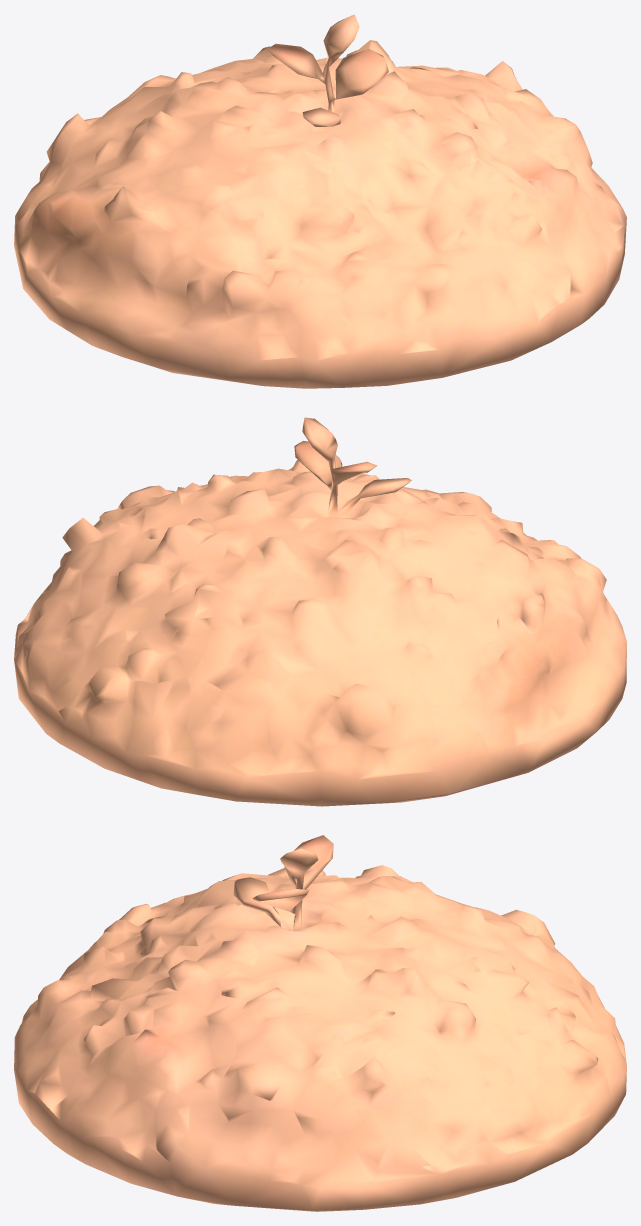
Rendered from clay-bloom-sprout.glb.
3 renders of one model, top to bottom at view 1: azimuth 30°, elevation 25°; view 2: azimuth 150°, elevation 25°; view 3: azimuth 270°, elevation 25°, orthographic.
Bounding box in the file's own units: 1.91 × 0.8584 × 1.91.
Materials: 1 (1 with a texture image).
